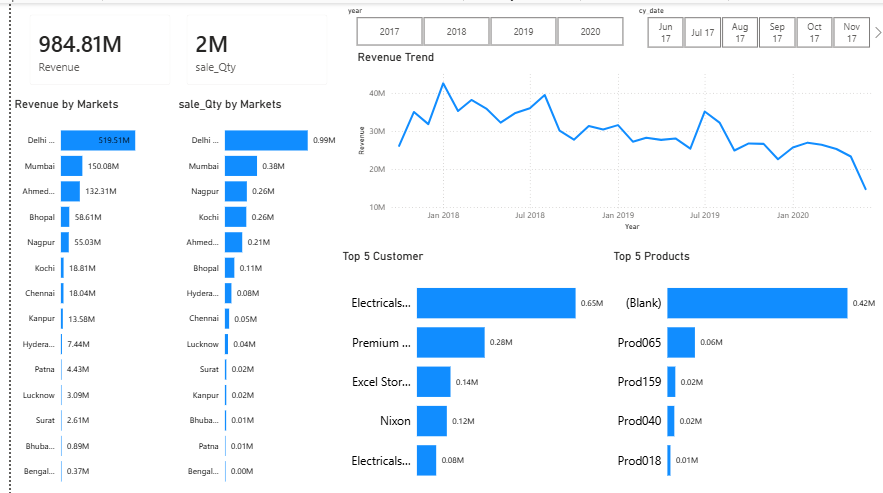

Layout of this report page (visuals, bound fields, positions):
{"tool":"powerbi","page":{"name":"Page 1","canvas":[1280,720],"ordinal":0},"visuals":[{"type":"cardVisual","fields":{"Data":["BaseMeasures.Revenue"]},"box":[10.1,0,240.2,137.7],"z":0},{"type":"cardVisual","fields":{"Data":["BaseMeasures.sale_Qty"]},"box":[240.2,0,240.2,137.7],"z":1000},{"type":"barChart","fields":{"Y":["BaseMeasures.Revenue"],"Category":["sales markets.markets_name"]},"box":[0,137.7,240.2,582.9],"z":2000},{"type":"barChart","fields":{"Y":["BaseMeasures.sale_Qty"],"Category":["sales markets.markets_name"]},"box":[240.2,137.7,240.2,582.9],"z":3000},{"type":"slicer","fields":{"Values":["sales date.year"]},"box":[480.4,0,440.1,68.9],"z":4000},{"type":"slicer","fields":{"Values":["sales date.cy_date"]},"box":[905.4,0,374.6,68.9],"z":5000},{"type":"barChart","title":"Top 5 Customer","fields":{"Y":["BaseMeasures.sale_Qty"],"Category":["sales customers.custmer_name"]},"box":[480.4,359.5,403.1,361.2],"z":6000},{"type":"barChart","title":"Top 5 Products","fields":{"Y":["BaseMeasures.sale_Qty"],"Category":["sales products.product_code"]},"box":[876.9,359.5,403.1,361.2],"z":7000},{"type":"lineChart","title":"Revenue Trend","fields":{"Y":["BaseMeasures.Revenue"],"Category":["sales date.cy_date.Variation.Date Hierarchy.Year","sales date.cy_date.Variation.Date Hierarchy.Quarter","sales date.cy_date.Variation.Date Hierarchy.Month","sales date.cy_date.Variation.Date Hierarchy.Day"]},"box":[502.3,68.9,777.7,268.8],"z":8000}]}

Visuals, with their boxes in screenshot pixels (x1, y1, x2, y2), scaled from the page's 1280x720 canvas onto the 883x493 screenshot:
cardVisual - BaseMeasures.Revenue: locate(7, 0, 173, 94)
cardVisual - BaseMeasures.sale_Qty: locate(166, 0, 331, 94)
barChart - BaseMeasures.Revenue x sales markets.markets_name: locate(0, 94, 166, 492)
barChart - BaseMeasures.sale_Qty x sales markets.markets_name: locate(166, 94, 331, 492)
slicer - sales date.year: locate(331, 0, 635, 47)
slicer - sales date.cy_date: locate(625, 0, 882, 47)
"Top 5 Customer" barChart: locate(331, 246, 609, 492)
"Top 5 Products" barChart: locate(605, 246, 882, 492)
"Revenue Trend" lineChart: locate(347, 47, 882, 231)
